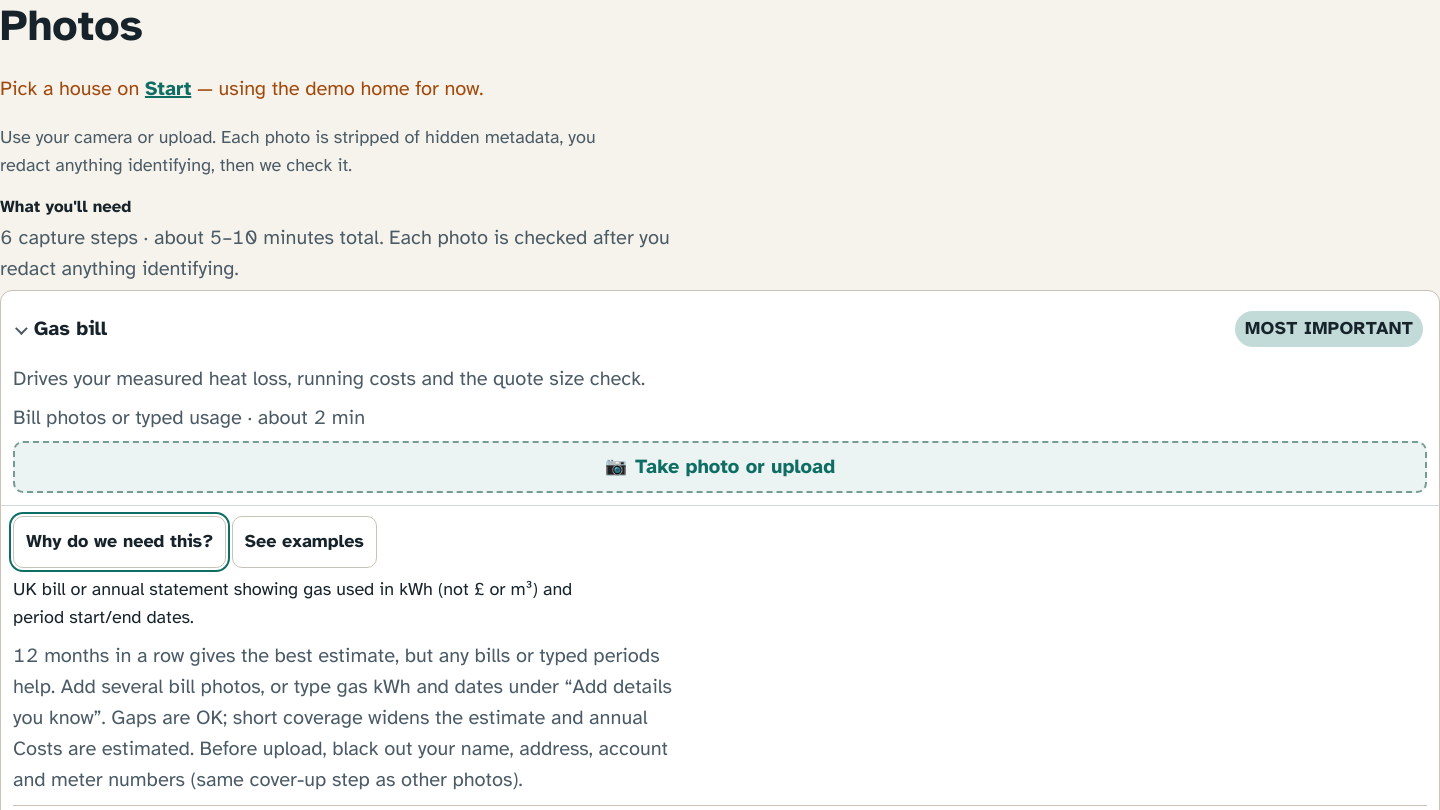
CaptureScreen guide › opens the why-need dialog with matching copy, closes on Escape, and restores focus
The width and height of the screenshot is (1440, 810).
Click the button "Why do we need this?" at (120, 542), box [13,516,226,568]
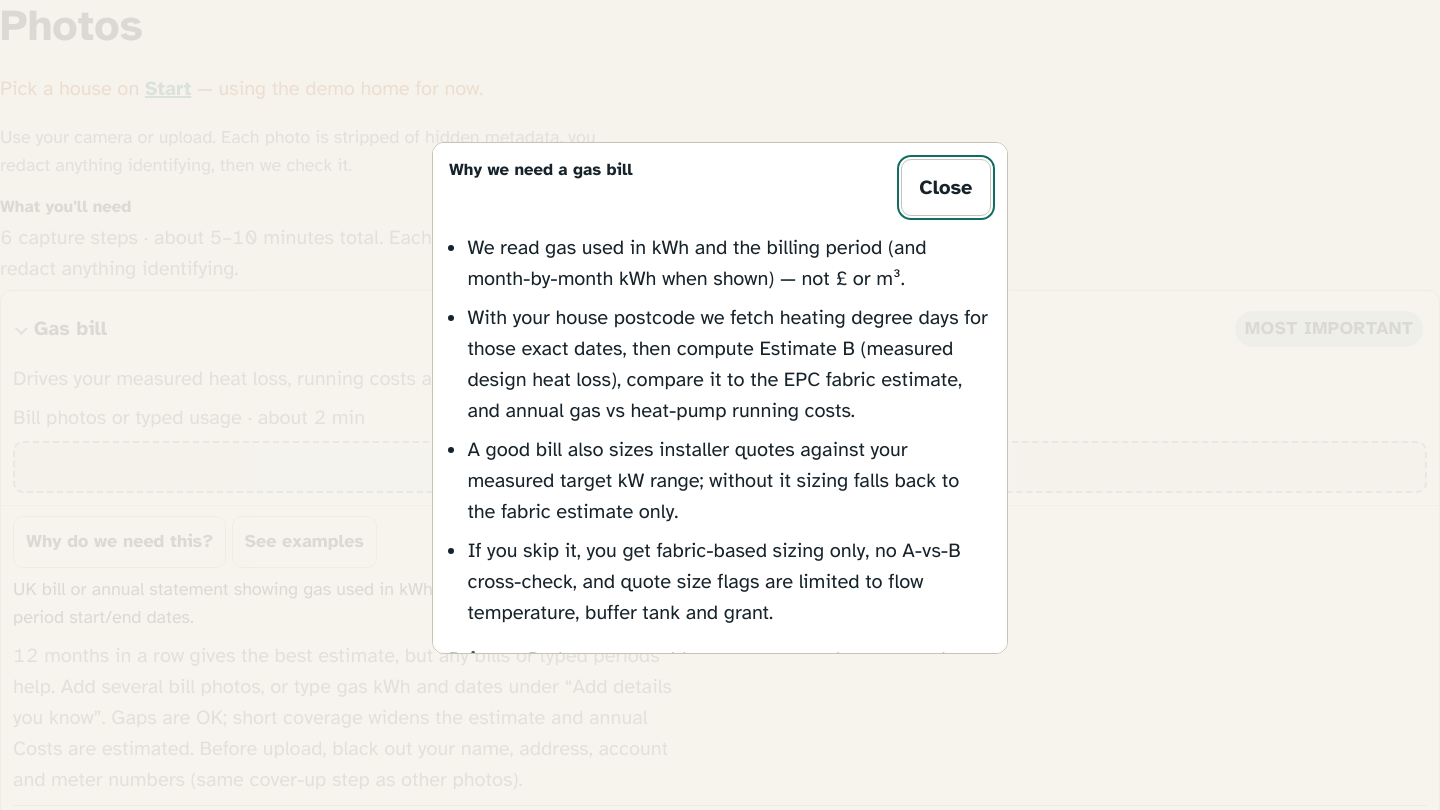
Result: the dialog "Why we need a gas bill" is shown at [432,142,1008,654]
Result: the list item "We read gas used in kWh and the billing period (and month-by-month kWh when shown) — not £ or m³." is shown at [467,235,926,291]
Press Escape
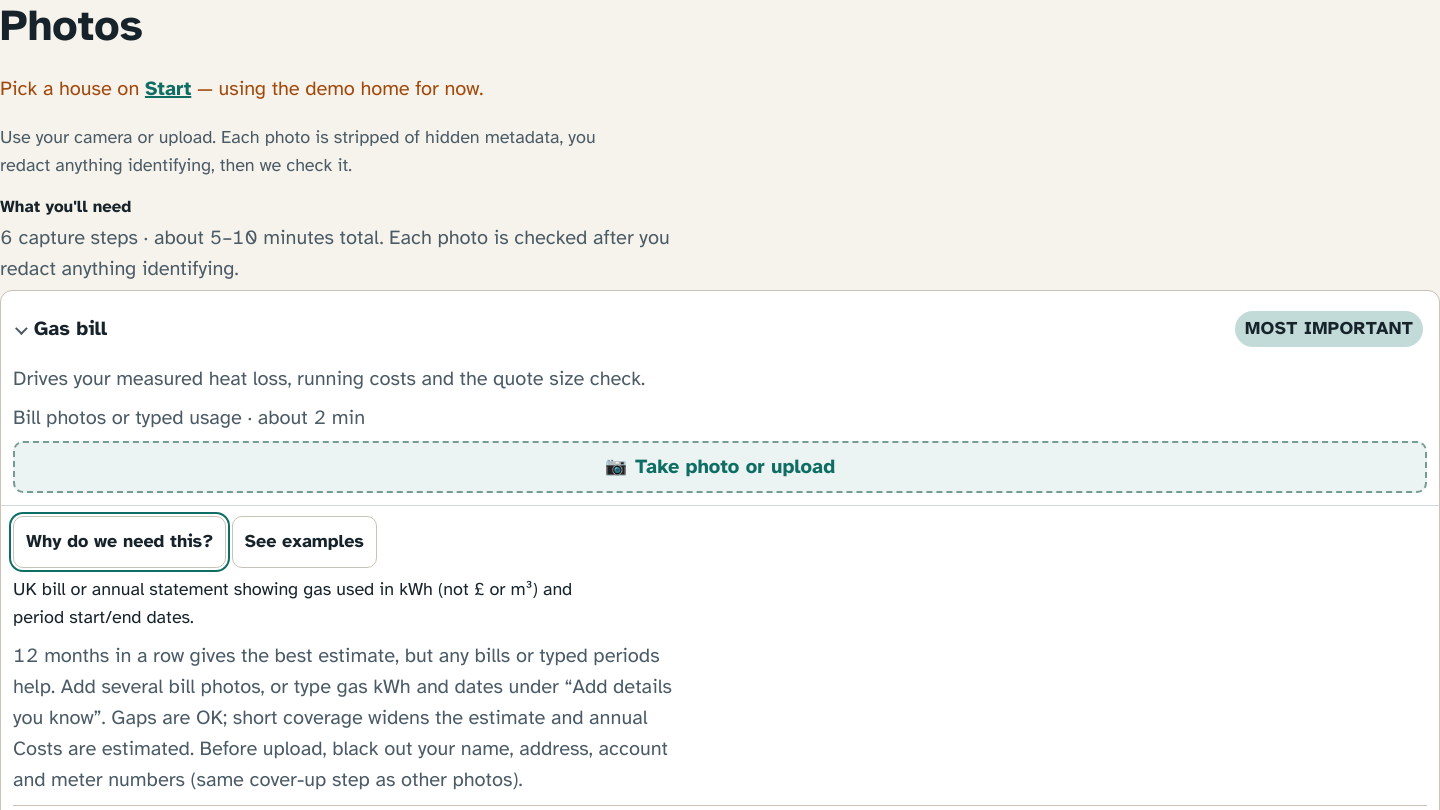
Result: the dialog is gone
